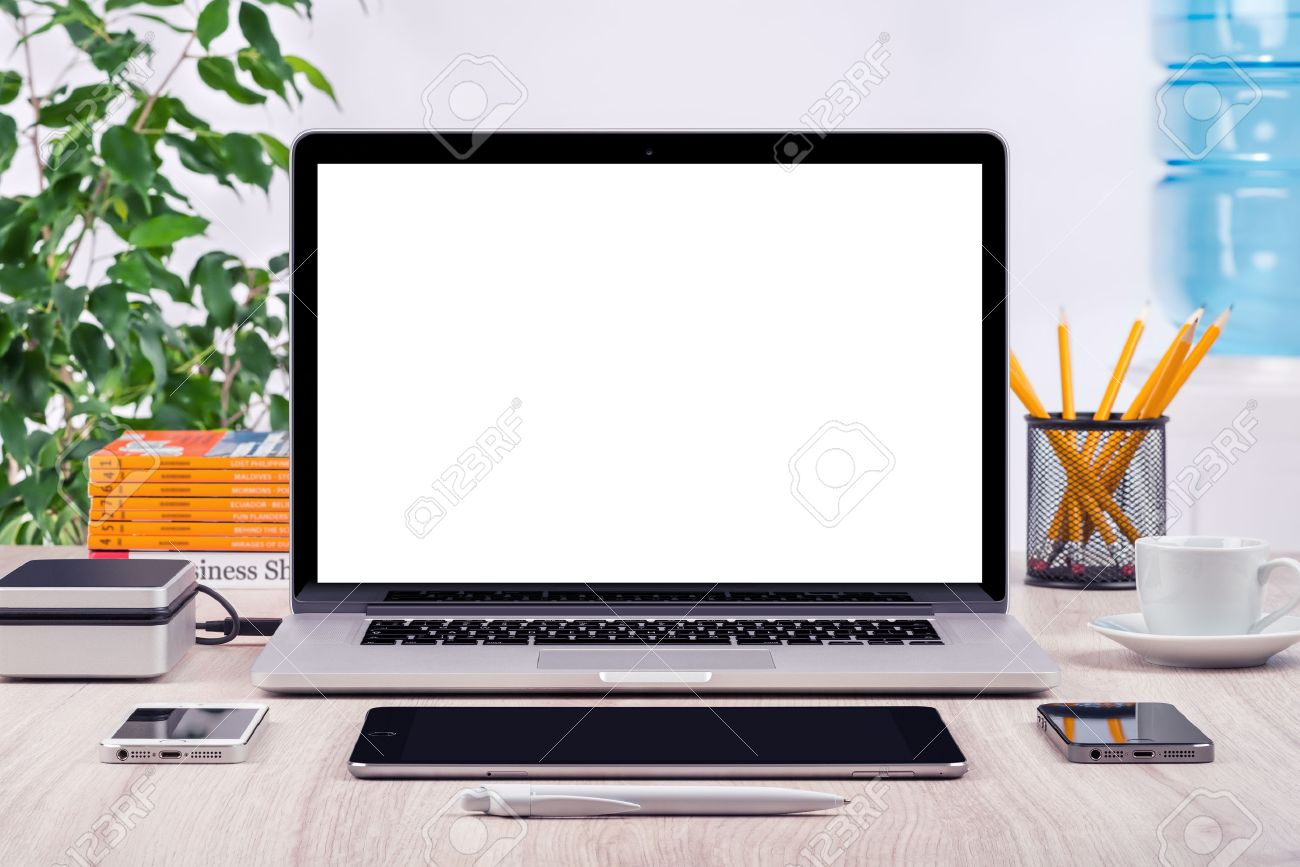Laptop: (238, 108, 1093, 716)
